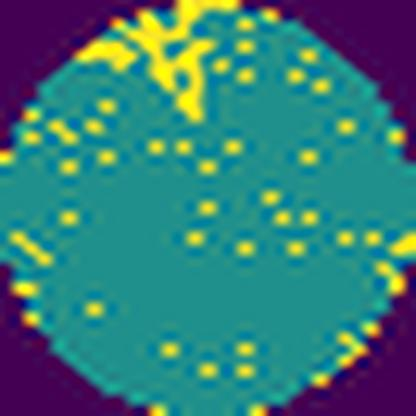Loc: (116, 0, 243, 125), (79, 38, 139, 70)
